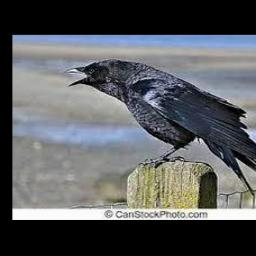Crow: (64, 59, 256, 196)
